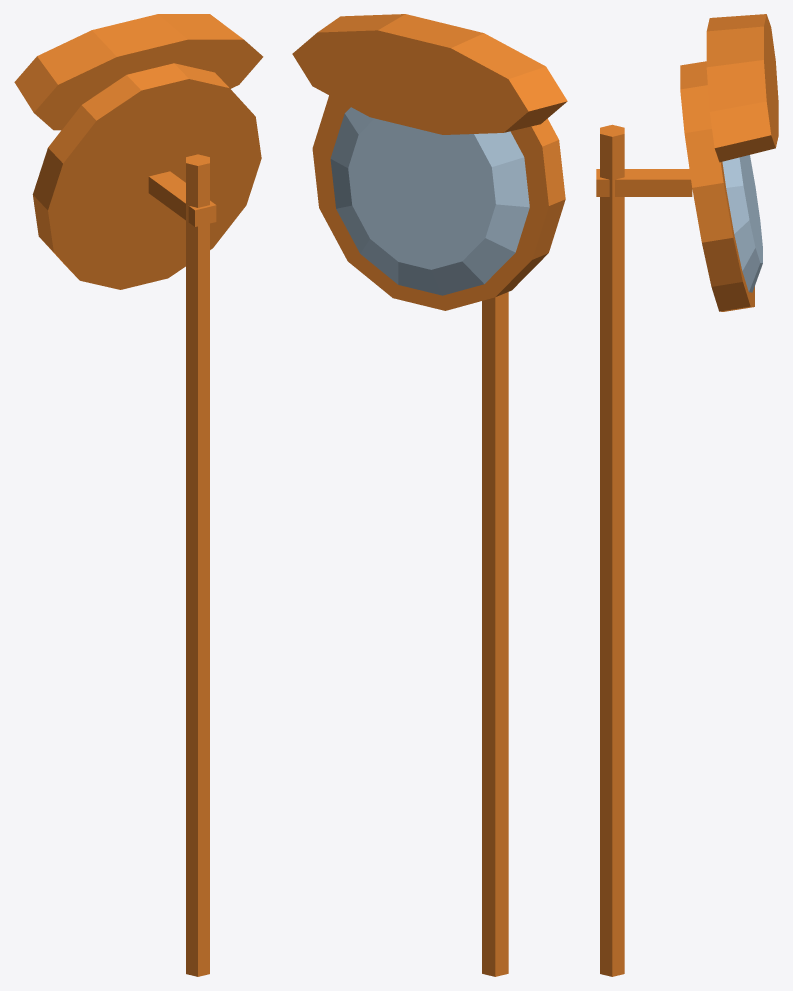
Rendered from road_mirror.glb.
3 renders of one model, left to right at view 1: azimuth 30°, elevation 25°; view 2: azimuth 150°, elevation 25°; view 3: azimuth 270°, elevation 25°, orthographic. The views are drawn at different scales.
Visible parts, largest first — view 1: road_mirror; view 2: road_mirror; view 3: road_mirror.
Boxes of the visible parts, box(x1,y1,x2,y2) form: road_mirror: box(14, 14, 263, 976); road_mirror: box(292, 14, 567, 976); road_mirror: box(596, 14, 778, 976).
Size of the model in its own units: 0.86 by 3.2 by 0.5704.
